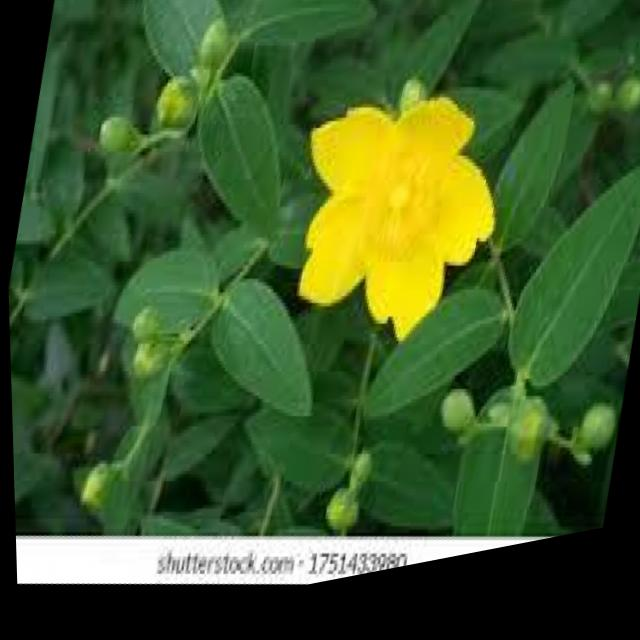Flower: (257, 78, 523, 394)
